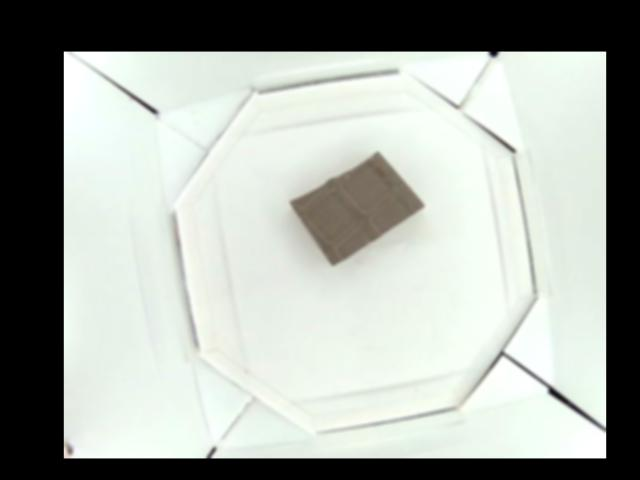China: (287, 153, 424, 263)
